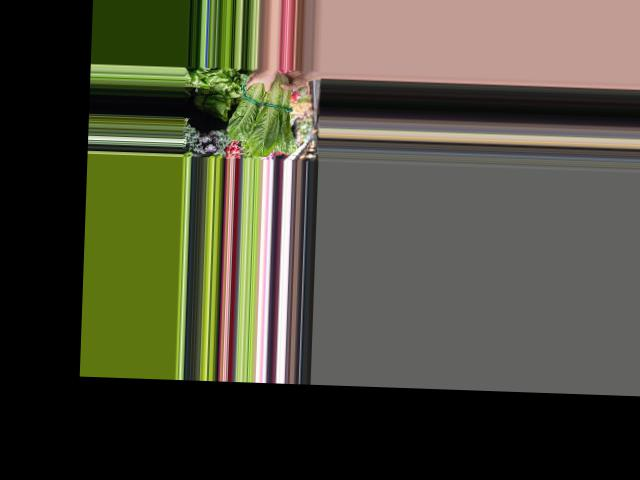lettuce: (225, 67, 295, 154)
